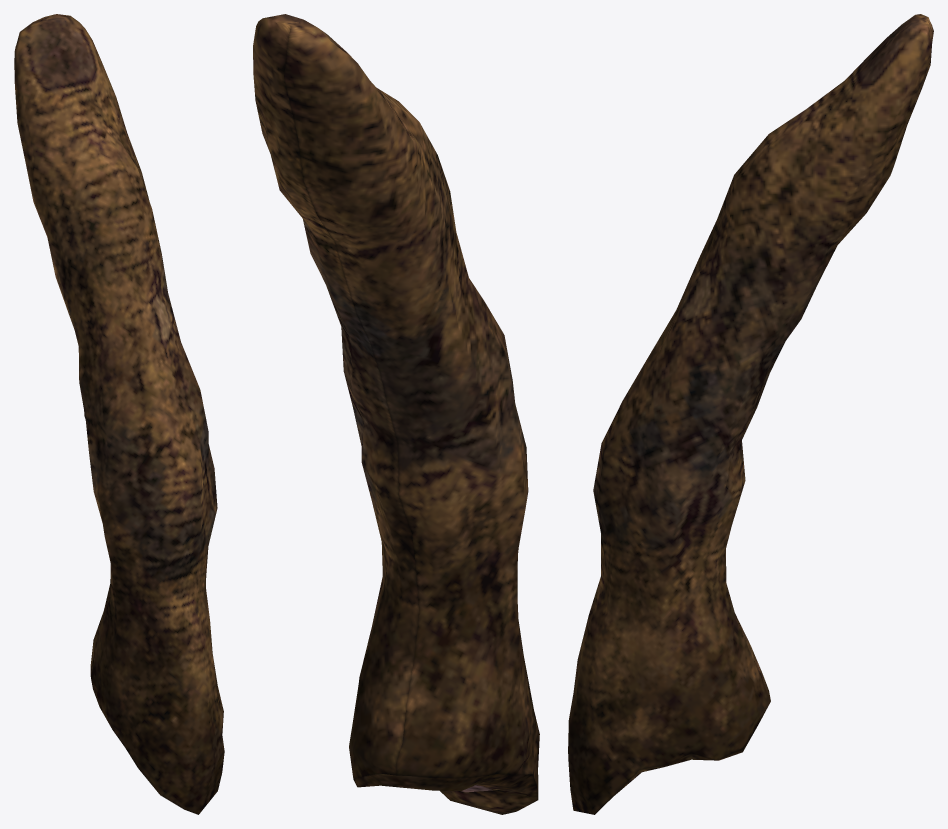
The model's file is mummified_finger.DAE.
3 renders of one model, left to right at view 1: azimuth 30°, elevation 25°; view 2: azimuth 150°, elevation 25°; view 3: azimuth 270°, elevation 25°, orthographic. The views are drawn at different scales.
Visible parts, largest first — view 1: mummified_finger; view 2: mummified_finger; view 3: mummified_finger.
Boxes of the visible parts, box(x1,y1,x2,y2) form: mummified_finger: box(14, 14, 224, 814); mummified_finger: box(253, 14, 539, 814); mummified_finger: box(568, 14, 933, 814).
Bounding box in the file's own units: 0.0257 × 0.0637 × 0.1519.
